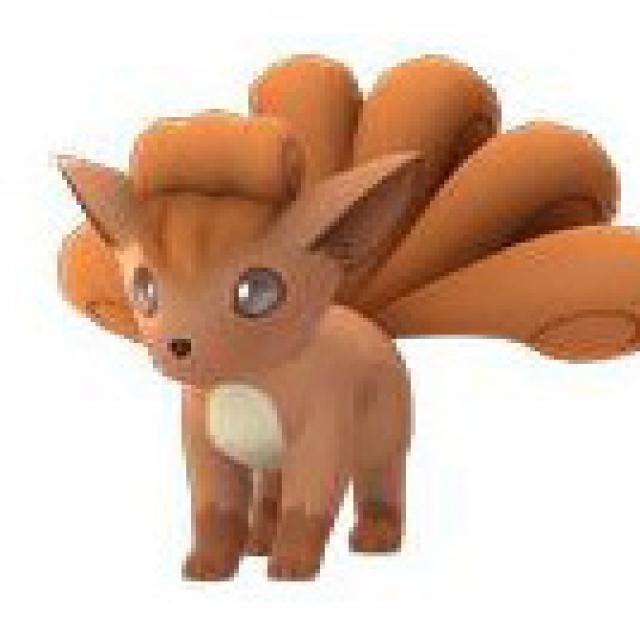Vulpix: (52, 114, 451, 584)
